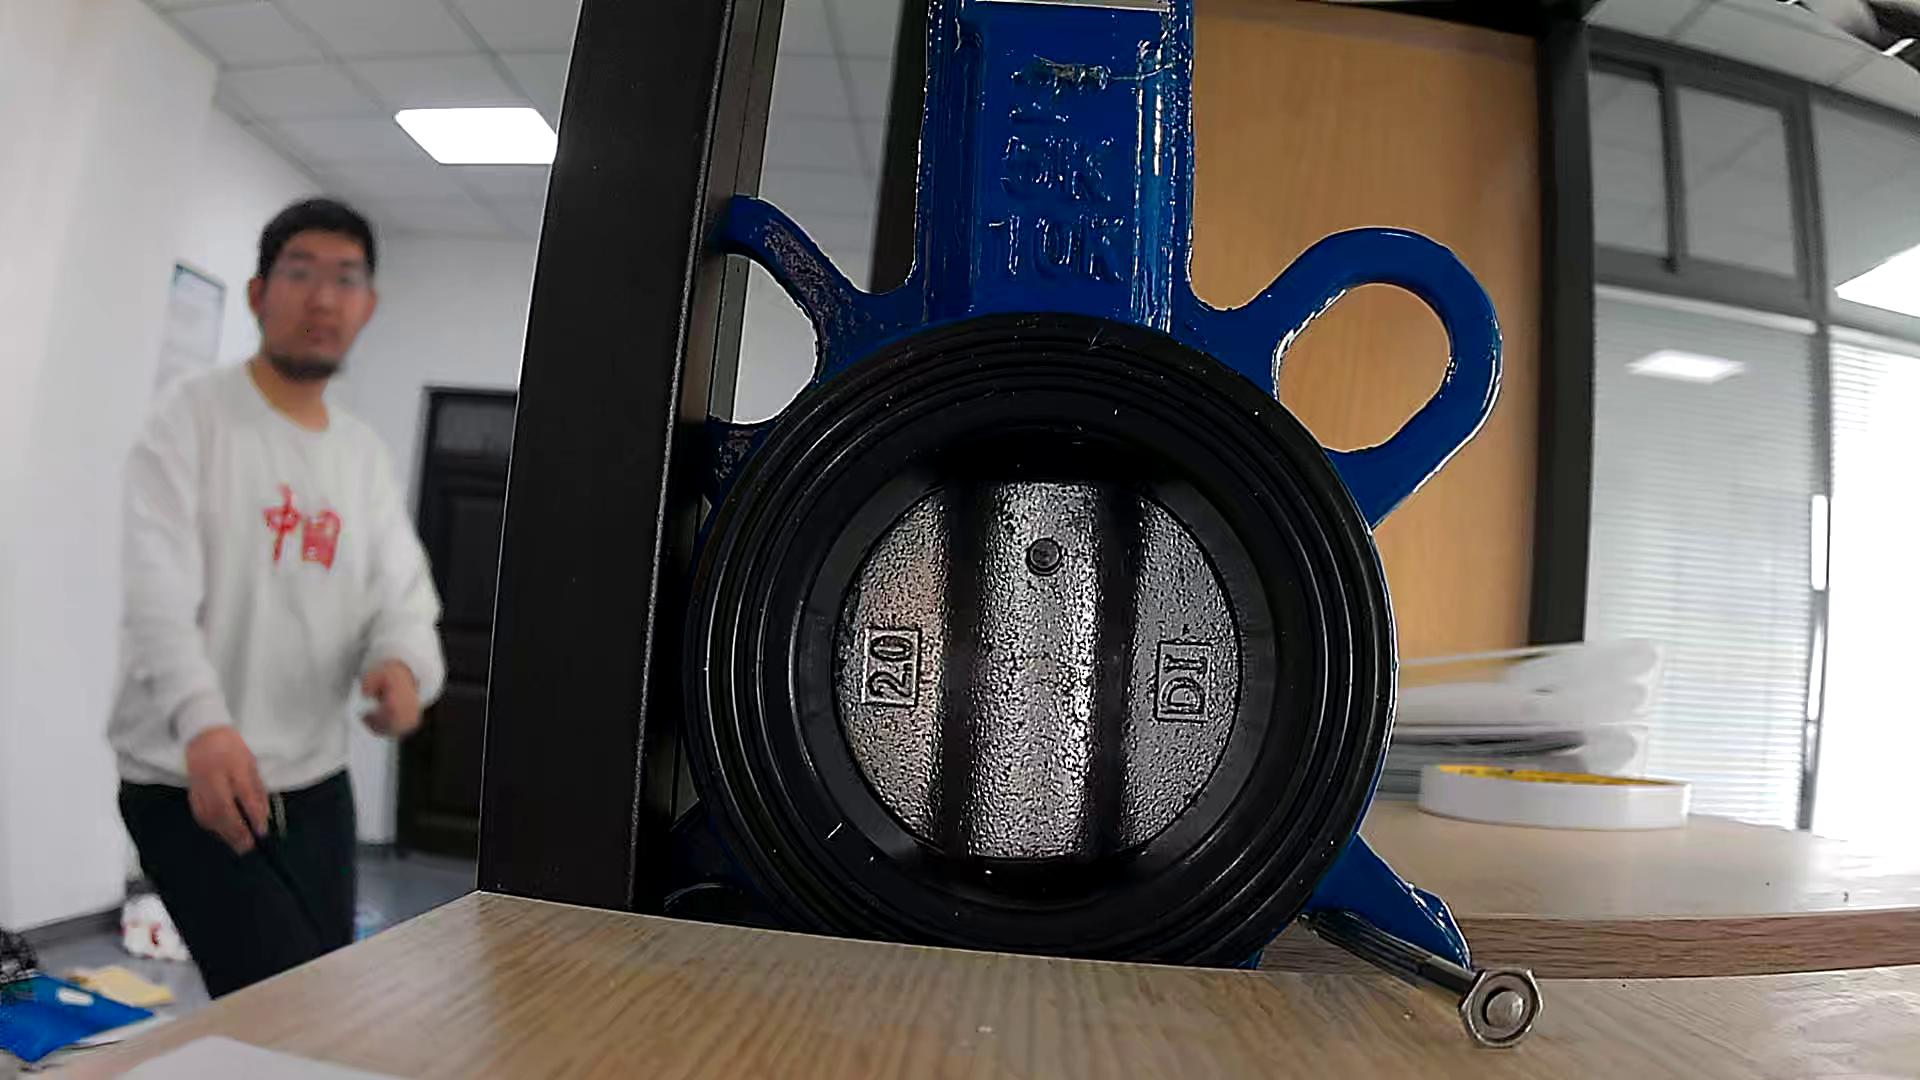valve: (836, 480, 1241, 862)
